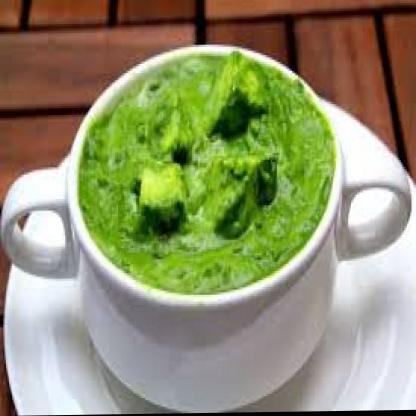palak_paneer: (78, 51, 336, 298)
